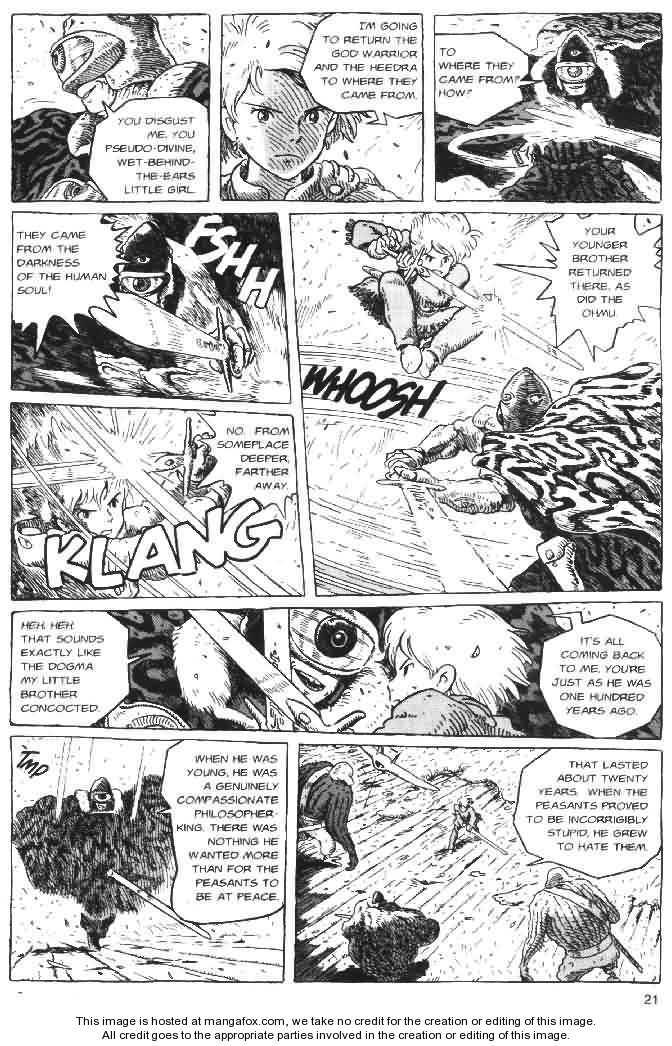Bubble: (493, 211, 663, 363), (158, 738, 288, 925), (512, 747, 664, 879), (11, 210, 137, 360), (538, 613, 664, 739), (9, 609, 133, 730), (299, 11, 425, 119), (88, 95, 210, 203), (194, 407, 300, 520), (433, 30, 531, 127)
